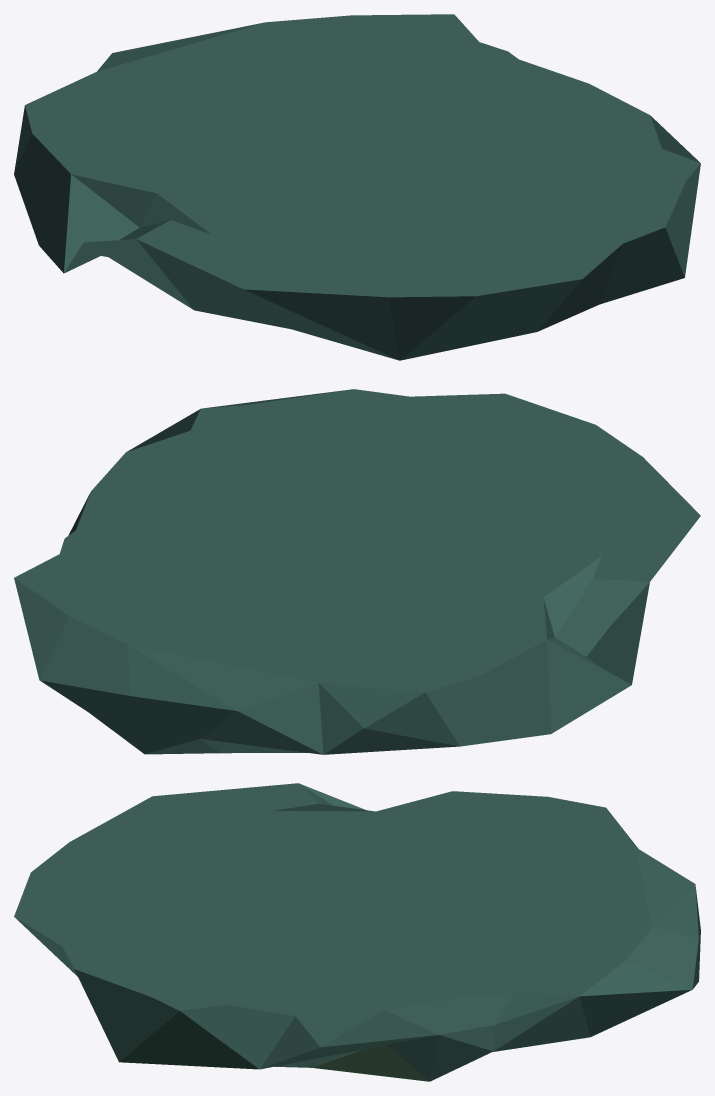
File: Stone_11.fbx
The picture shows the model from 3 angles, top to bottom: view 1: azimuth 30°, elevation 25°; view 2: azimuth 150°, elevation 25°; view 3: azimuth 270°, elevation 25°; orthographic projection. The views are drawn at different scales.
Parts seen in each view (by area): view 1: Stone 11; view 2: Stone 11; view 3: Stone 11.
Part boxes in pixels (box(x1,y1,x2,y2)): Stone 11: box(14, 14, 700, 360); Stone 11: box(14, 389, 700, 754); Stone 11: box(14, 783, 700, 1081).
Bounding box in the file's own units: 8039 × 1218 × 9342.
